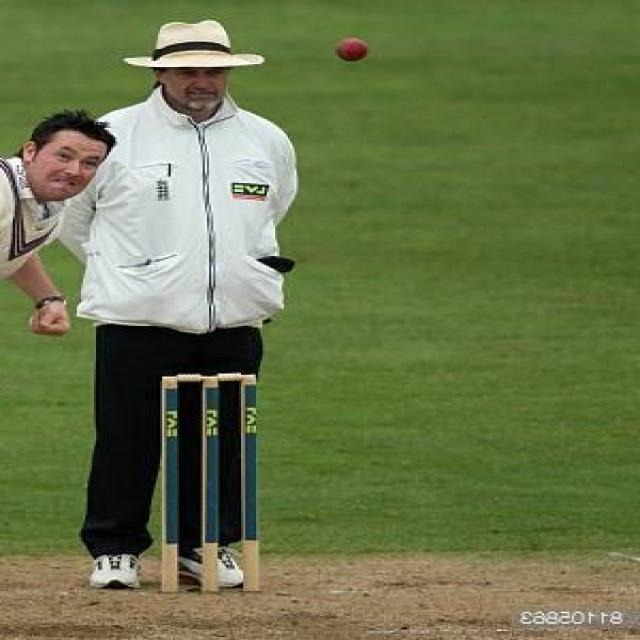No_Action: (63, 10, 317, 598)
